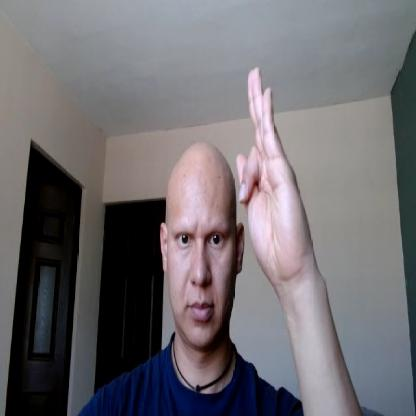F: (235, 68, 309, 276)
